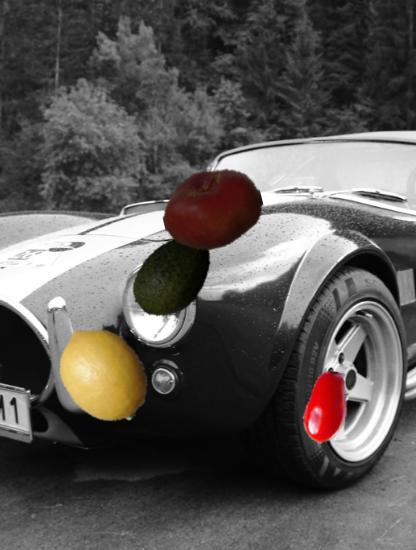Avocado: (128, 231, 220, 323)
Lemon: (51, 323, 156, 428)
Nectarine: (162, 159, 263, 260)
Tomato: (289, 371, 362, 444)
